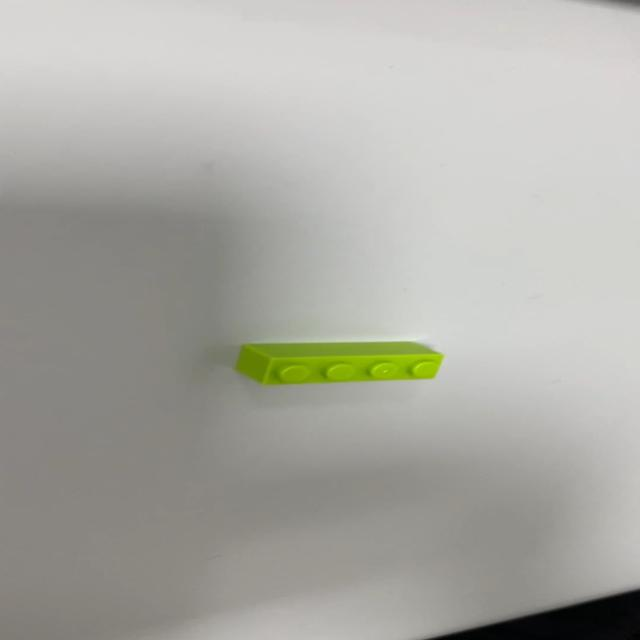C4x1x1: (233, 340, 444, 386)
